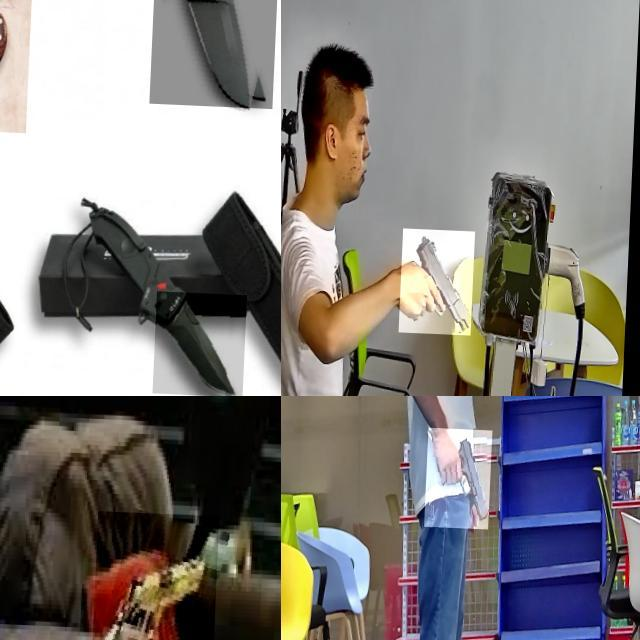-: (152, 0, 280, 103), (158, 287, 251, 392), (0, 271, 51, 384), (0, 0, 57, 59), (0, 0, 68, 41), (0, 0, 69, 38)
gun-knife-thesis - v11 Yolov5 augmented: (92, 507, 221, 640), (402, 224, 478, 330), (428, 424, 494, 526)
